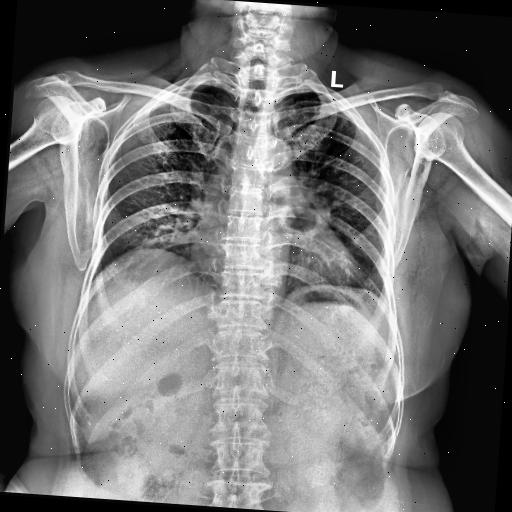0- Aortic enlargement: (248, 134, 298, 182), (256, 134, 296, 172)
11- Pleural thickening: (326, 94, 360, 127)
3- Cardiomegaly: (184, 220, 367, 288), (188, 228, 364, 288)
